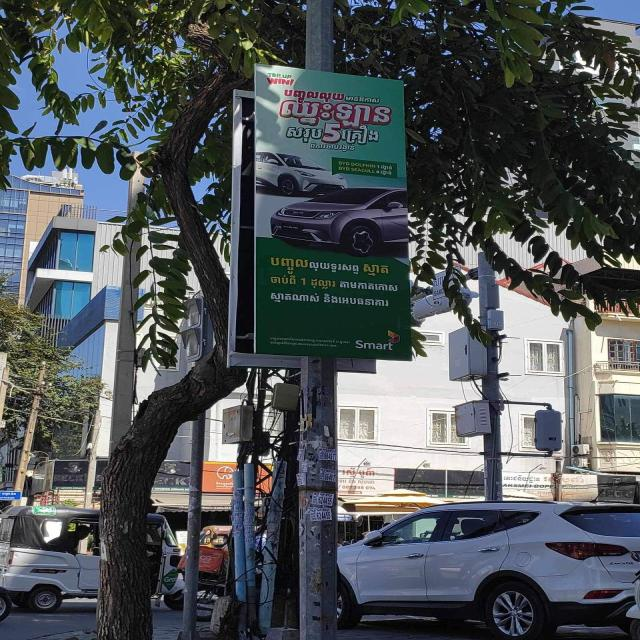1: (269, 288, 393, 310)
31: (269, 272, 338, 291)
764: (320, 121, 343, 144)
Yolov11kh: (273, 96, 395, 131), (278, 87, 346, 106), (338, 124, 383, 146), (284, 124, 327, 143), (269, 256, 309, 275), (337, 280, 399, 292), (309, 261, 361, 275), (309, 140, 357, 152), (361, 262, 391, 277), (344, 94, 383, 104), (380, 162, 393, 170), (379, 169, 393, 176)
